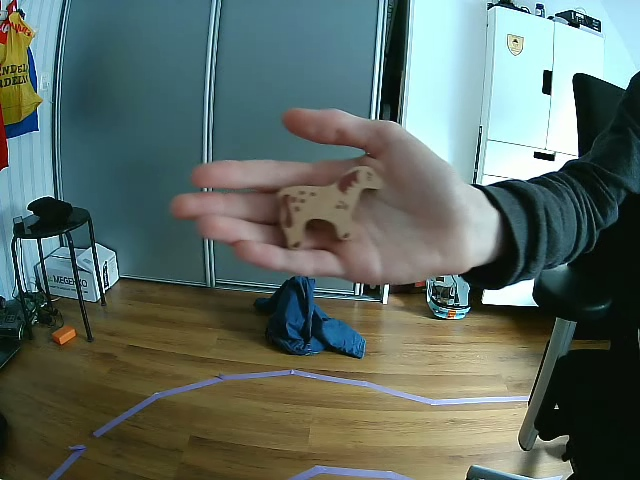paard: (278, 165, 381, 248)
